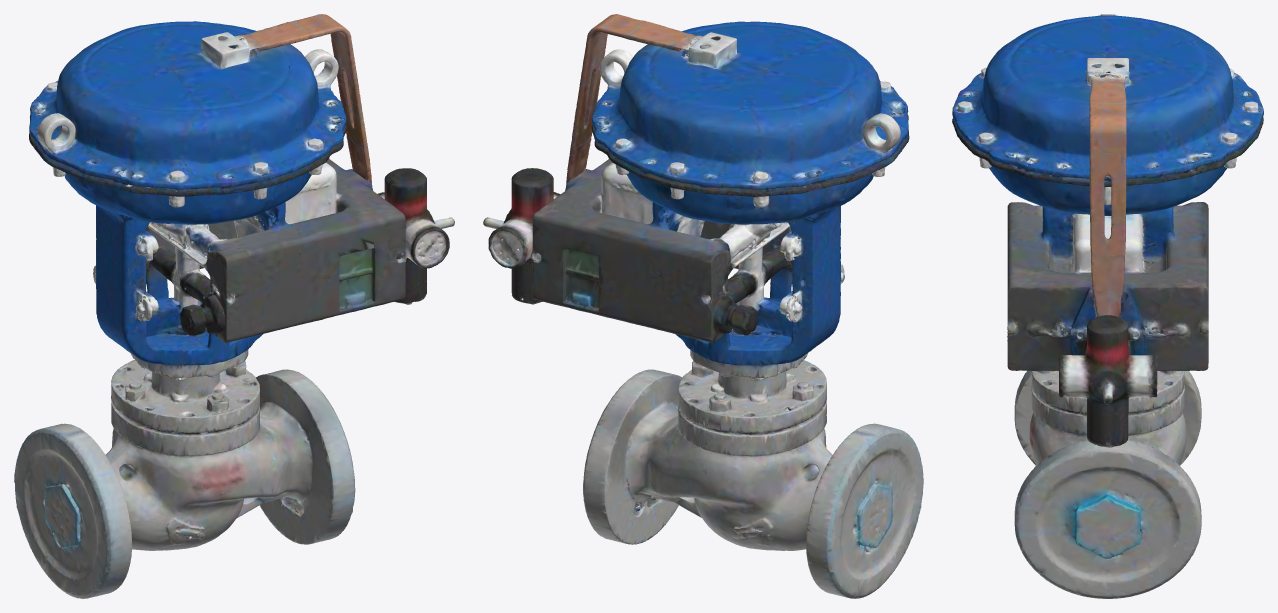
The model's file is valve2_med.glb.
3 renders of one model, left to right at view 1: azimuth 30°, elevation 25°; view 2: azimuth 150°, elevation 25°; view 3: azimuth 270°, elevation 25°, orthographic. The views are drawn at different scales.
Bounding box in the file's own units: 1.61 × 1.9 × 1.08.
1 material, 1 textured.
